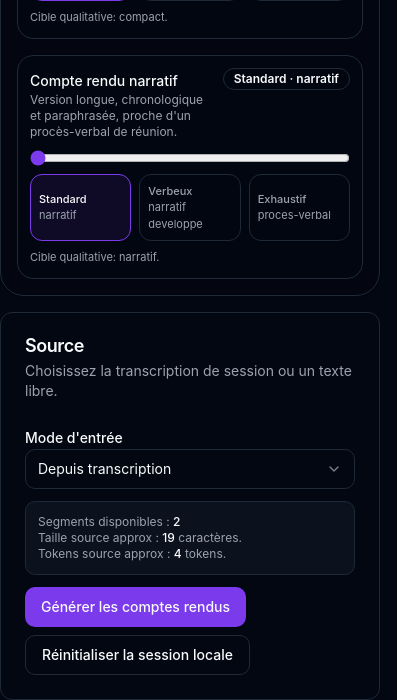
Test: LLMLocalPage › requires an imported file when source is texte libre
The width and height of the screenshot is (397, 700).
(page scrolled)
Click the dropdown named "Mode d'entrée". click: (105, 468)
box: [25, 448, 355, 488]
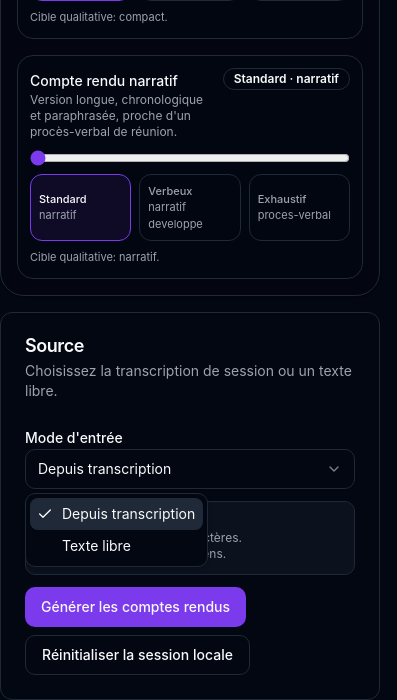
Click the option "Texte libre". click: (96, 546)
box: [62, 537, 131, 554]
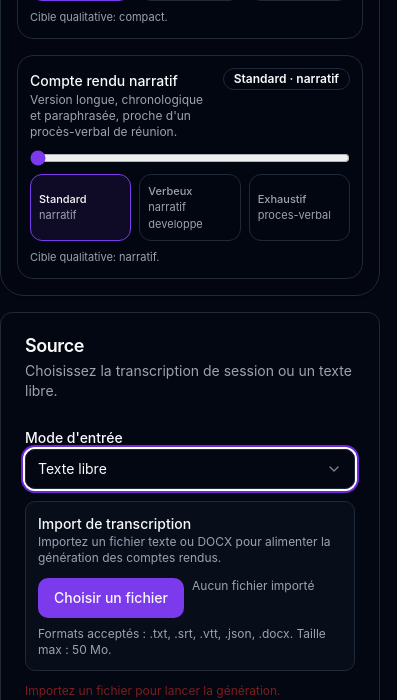
Expected: the button "Choisir un fichier" is shown, [38, 578, 184, 618]
Expected: the text "Importez un fichier pour lancer la génération." is shown, [25, 682, 281, 698]
